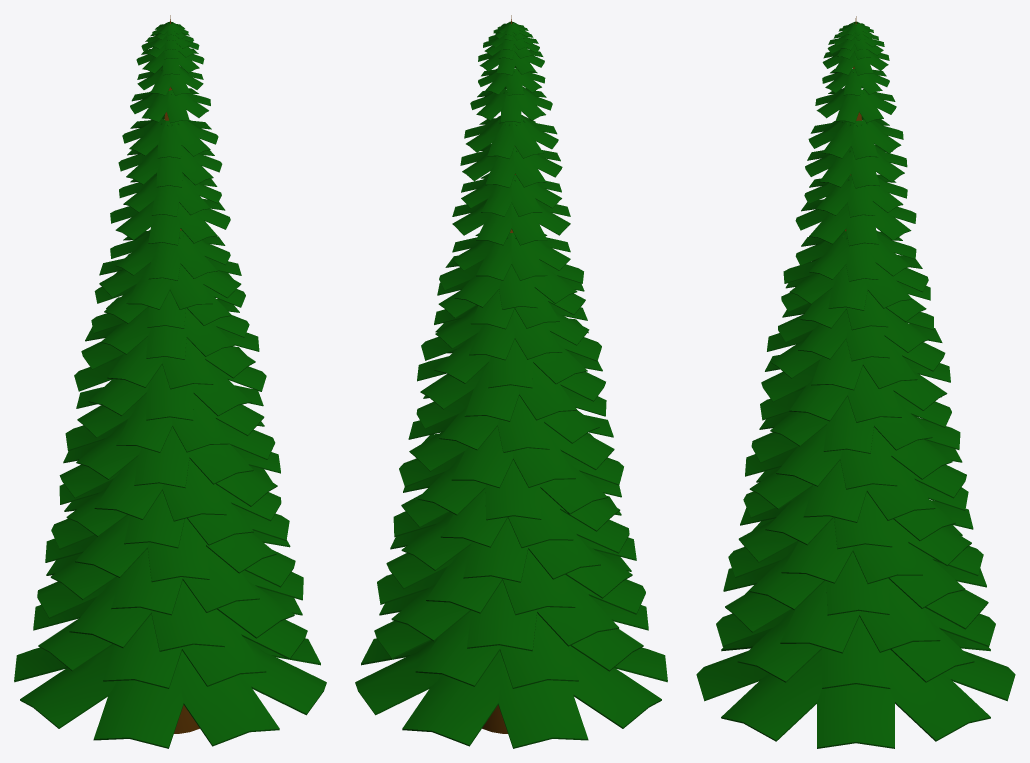
Rendered from Tree.fbx.
The picture shows the model from 3 angles, left to right: view 1: azimuth 30°, elevation 25°; view 2: azimuth 150°, elevation 25°; view 3: azimuth 270°, elevation 25°; orthographic projection.
Visible parts, largest first — view 1: pasted__polySurface2 (×11), pasted__pasted__polySurface1 (×6), pasted__polySurface5 (×12), pasted__polySurface3 (×14), pasted__polySurface4 (×7), pasted__pasted__polySurface3 (×13), pasted__pasted__polySurface2 (×10), pasted__pasted__polySurface4 (×5); view 2: pasted__pasted__polySurface2 (×8), pasted__pasted__polySurface1 (×13), pasted__pasted__polySurface4 (×8), pasted__polySurface4 (×12), pasted__polySurface2 (×11), pasted__polySurface3 (×9), pasted__polySurface5 (×10), pasted__pasted__polySurface3 (×4); view 3: pasted__polySurface3 (×10), pasted__pasted__polySurface2 (×12), pasted__pasted__polySurface3 (×10), pasted__pasted__polySurface4 (×12), pasted__polySurface2 (×5), pasted__polySurface5 (×6), pasted__pasted__polySurface1 (×11), pasted__polySurface4 (×8).
Boxes of the visible parts, <box> form: pasted__polySurface2 (×11): <box>74,355,326,746</box>; pasted__pasted__polySurface1 (×6): <box>20,518,183,748</box>; pasted__polySurface5 (×12): <box>81,262,303,600</box>; pasted__polySurface3 (×14): <box>107,176,320,665</box>; pasted__polySurface4 (×7): <box>59,422,266,686</box>; pasted__pasted__polySurface3 (×13): <box>126,119,280,473</box>; pasted__pasted__polySurface2 (×10): <box>14,120,266,682</box>; pasted__pasted__polySurface4 (×5): <box>37,120,213,671</box>; pasted__pasted__polySurface2 (×8): <box>399,452,588,748</box>; pasted__pasted__polySurface1 (×13): <box>420,260,667,728</box>; pasted__pasted__polySurface4 (×8): <box>409,390,643,671</box>; pasted__polySurface4 (×12): <box>434,202,629,553</box>; pasted__polySurface2 (×11): <box>476,179,623,485</box>; pasted__polySurface3 (×9): <box>355,119,601,715</box>; pasted__polySurface5 (×10): <box>485,120,606,416</box>; pasted__pasted__polySurface3 (×4): <box>386,511,500,686</box>; pasted__polySurface3 (×10): <box>749,387,990,748</box>; pasted__pasted__polySurface2 (×12): <box>770,273,1015,701</box>; pasted__pasted__polySurface3 (×10): <box>761,314,995,646</box>; pasted__pasted__polySurface4 (×12): <box>809,175,968,510</box>; pasted__polySurface2 (×5): <box>696,541,821,741</box>; pasted__polySurface5 (×6): <box>738,448,890,688</box>; pasted__pasted__polySurface1 (×11): <box>819,121,960,449</box>; pasted__polySurface4 (×8): <box>716,120,945,647</box>.
Size of the model in its own units: 4.1 by 10 by 4.1.
